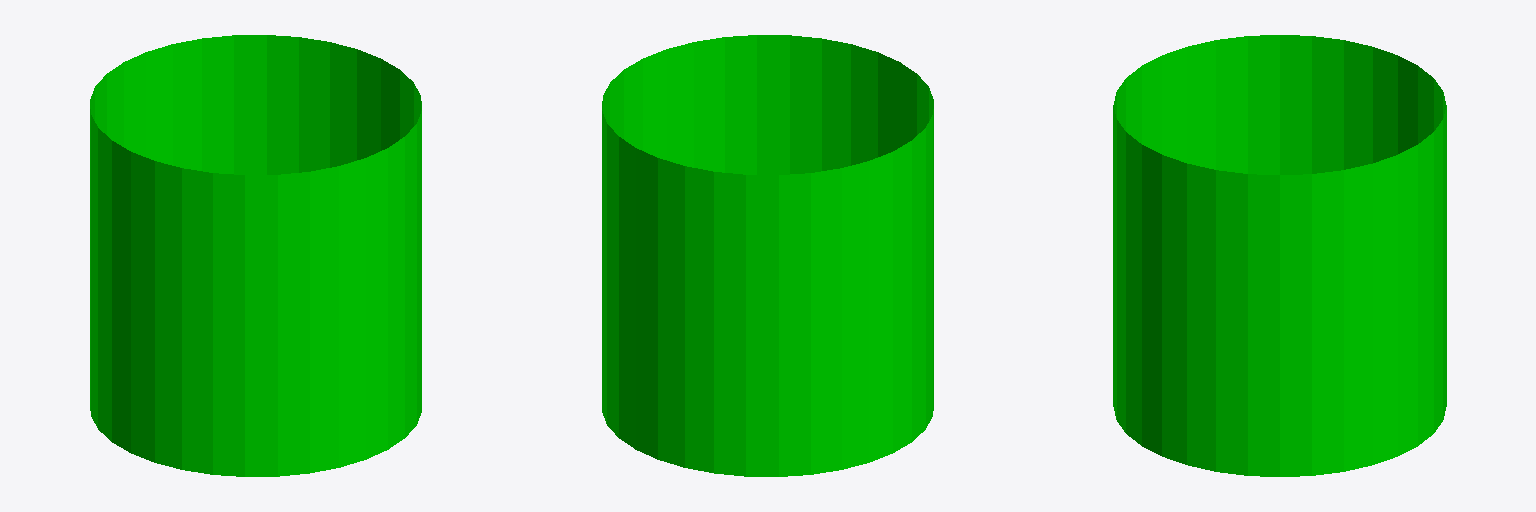
The model's file is green_cylinder.obj.
3 views of the same model, side by side, from view 1: azimuth 30°, elevation 25°; view 2: azimuth 150°, elevation 25°; view 3: azimuth 270°, elevation 25° (orthographic).
Size of the model in its own units: 2 by 2 by 2.